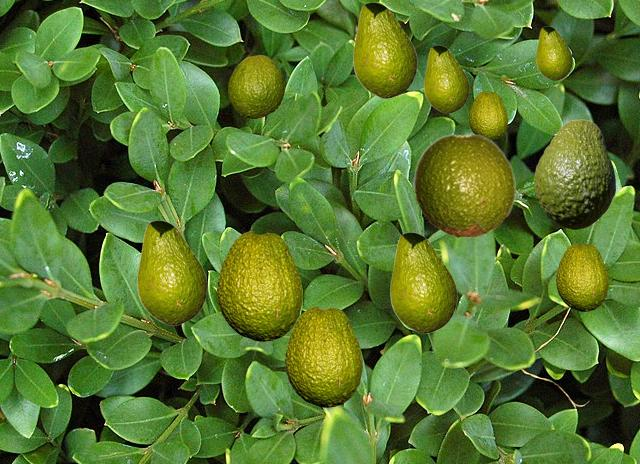avocado: (413, 133, 516, 237), (217, 231, 301, 340), (534, 119, 614, 228), (285, 306, 361, 406), (137, 220, 206, 324), (390, 232, 456, 332), (353, 2, 416, 97), (556, 243, 607, 310), (228, 55, 283, 117), (424, 45, 468, 112), (536, 26, 571, 79), (469, 91, 506, 140)
